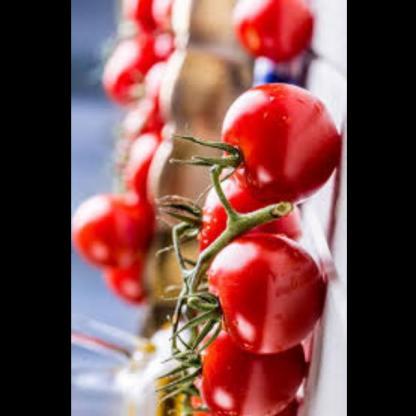tomato: (82, 0, 194, 312), (213, 79, 337, 204), (201, 240, 320, 354), (191, 189, 310, 276), (183, 334, 301, 416), (227, 0, 309, 70)
